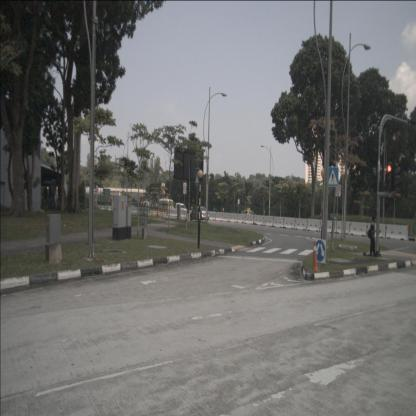movable_object-barrier: (385, 223, 409, 241), (366, 222, 386, 238), (349, 221, 367, 237), (334, 220, 350, 235), (320, 219, 335, 234), (306, 219, 321, 232), (294, 218, 308, 230), (272, 216, 284, 228), (283, 217, 295, 229), (262, 216, 274, 226), (253, 215, 264, 225), (245, 214, 254, 225), (221, 212, 230, 222), (228, 213, 238, 222), (236, 214, 246, 223), (215, 212, 223, 221), (208, 212, 215, 221), (180, 210, 186, 218), (175, 209, 181, 217), (172, 209, 176, 216), (168, 209, 172, 216)
movable_object-trafficcone: (310, 240, 320, 272)
vehicle-bus-rigid: (158, 198, 174, 212)
vehicle-car: (314, 214, 342, 230), (190, 206, 210, 222), (240, 210, 258, 221), (176, 203, 188, 213)
